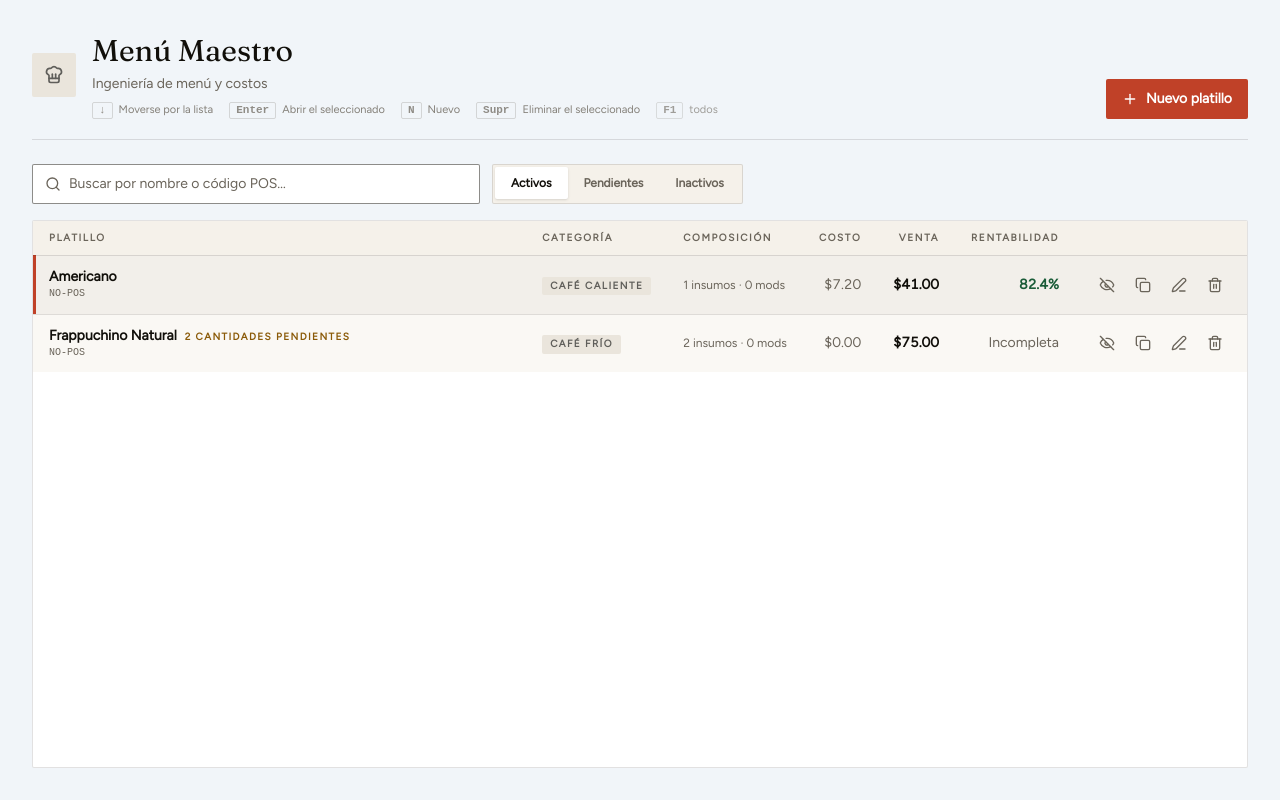
Test: RecetasScreen · recetas plantilla › una porción en la unidad equivocada avisa al lado del campo
Double-click the text "Frappuchino Natural" at coordinates (200, 335), box [49, 327, 350, 344]
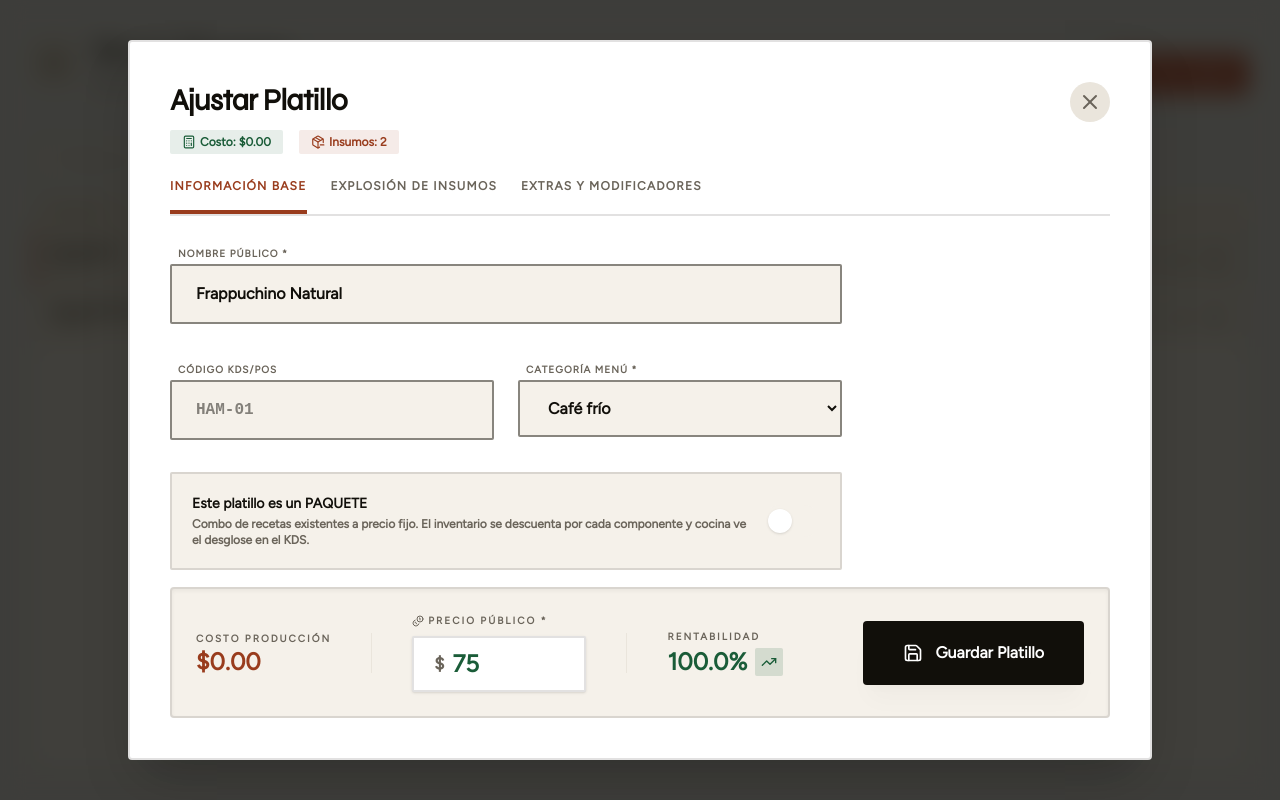
Click the button "Explosión de Insumos" at coordinates (414, 196), box [330, 178, 497, 214]
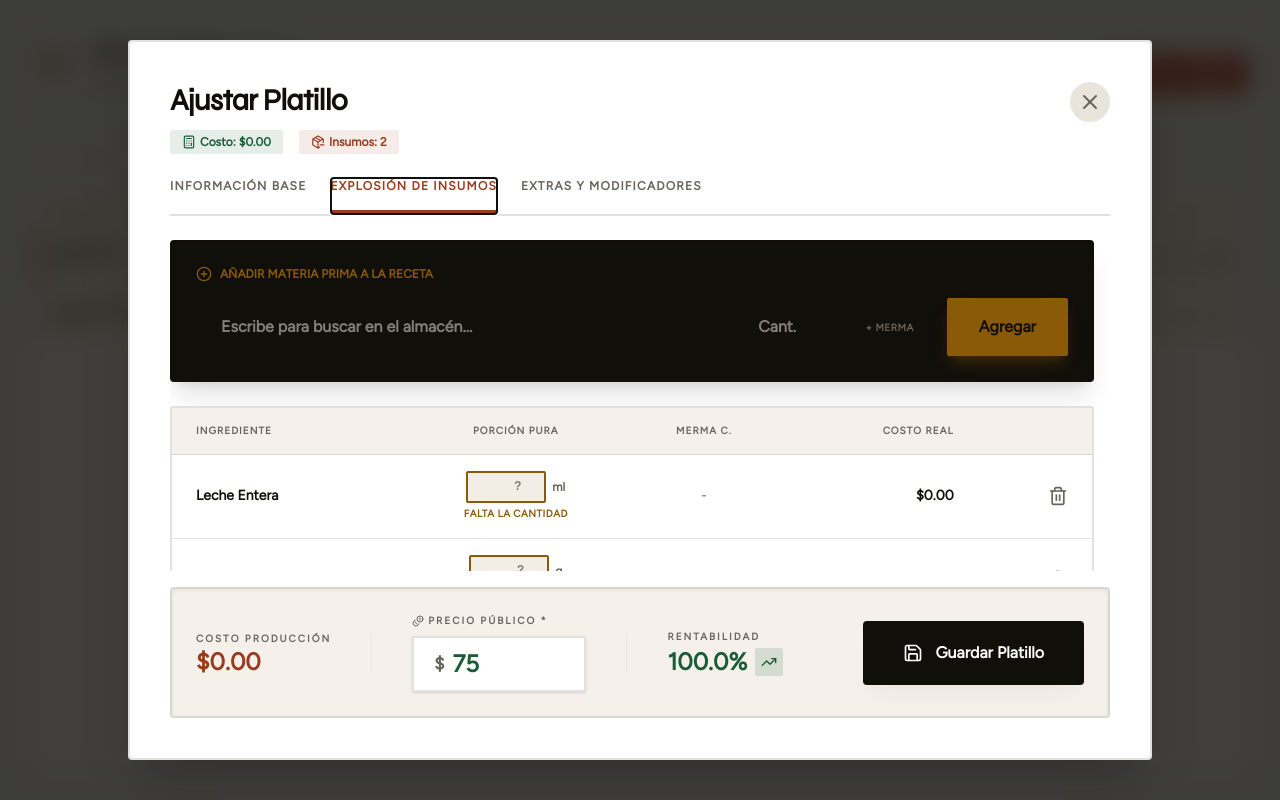
Type "0.1" into the number field named "Cantidad de Leche Entera" at coordinates (506, 487), box [466, 471, 546, 503]
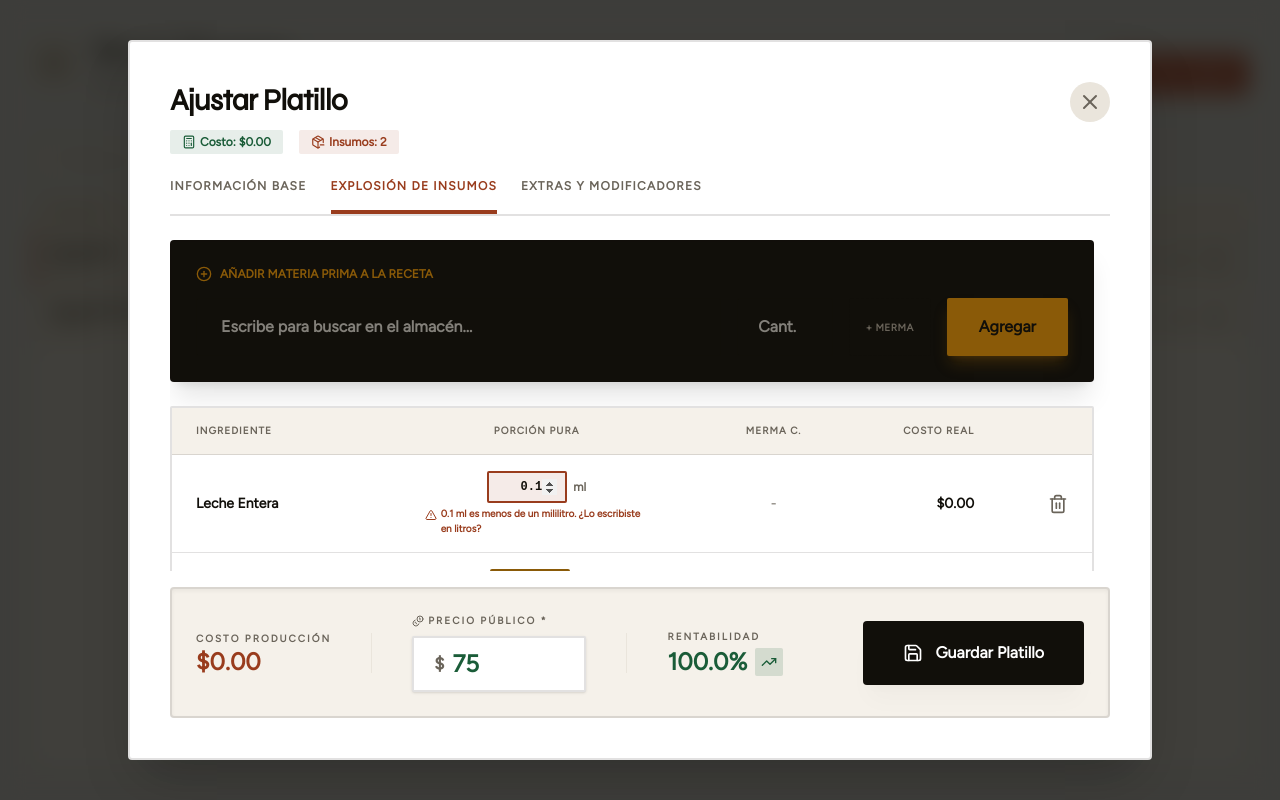
Check: the message shows "litros", box [441, 507, 640, 535]
